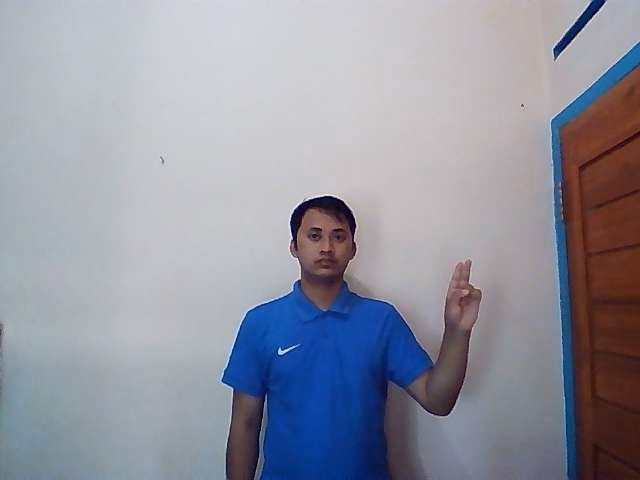U: (442, 259, 482, 330)
